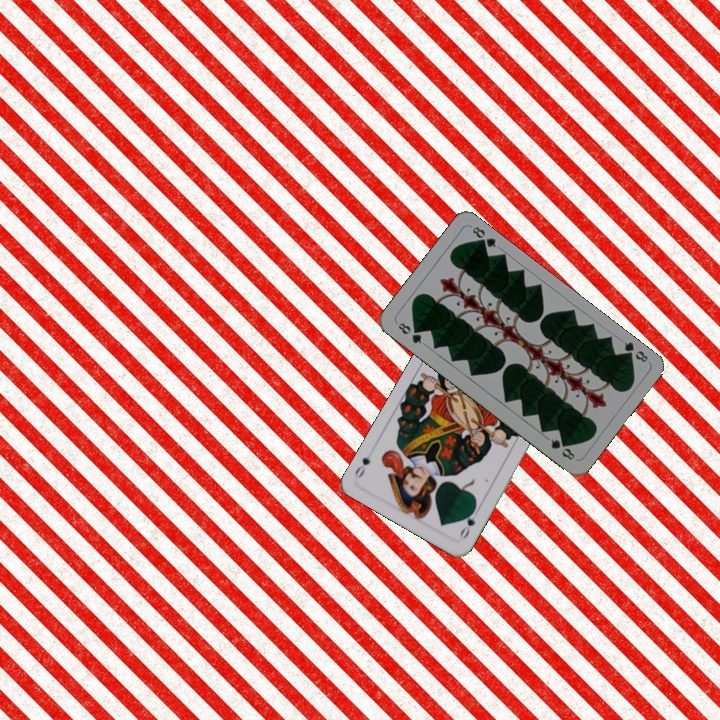G8: (618, 337, 651, 365), (394, 318, 424, 346)
GO: (455, 504, 478, 541)
